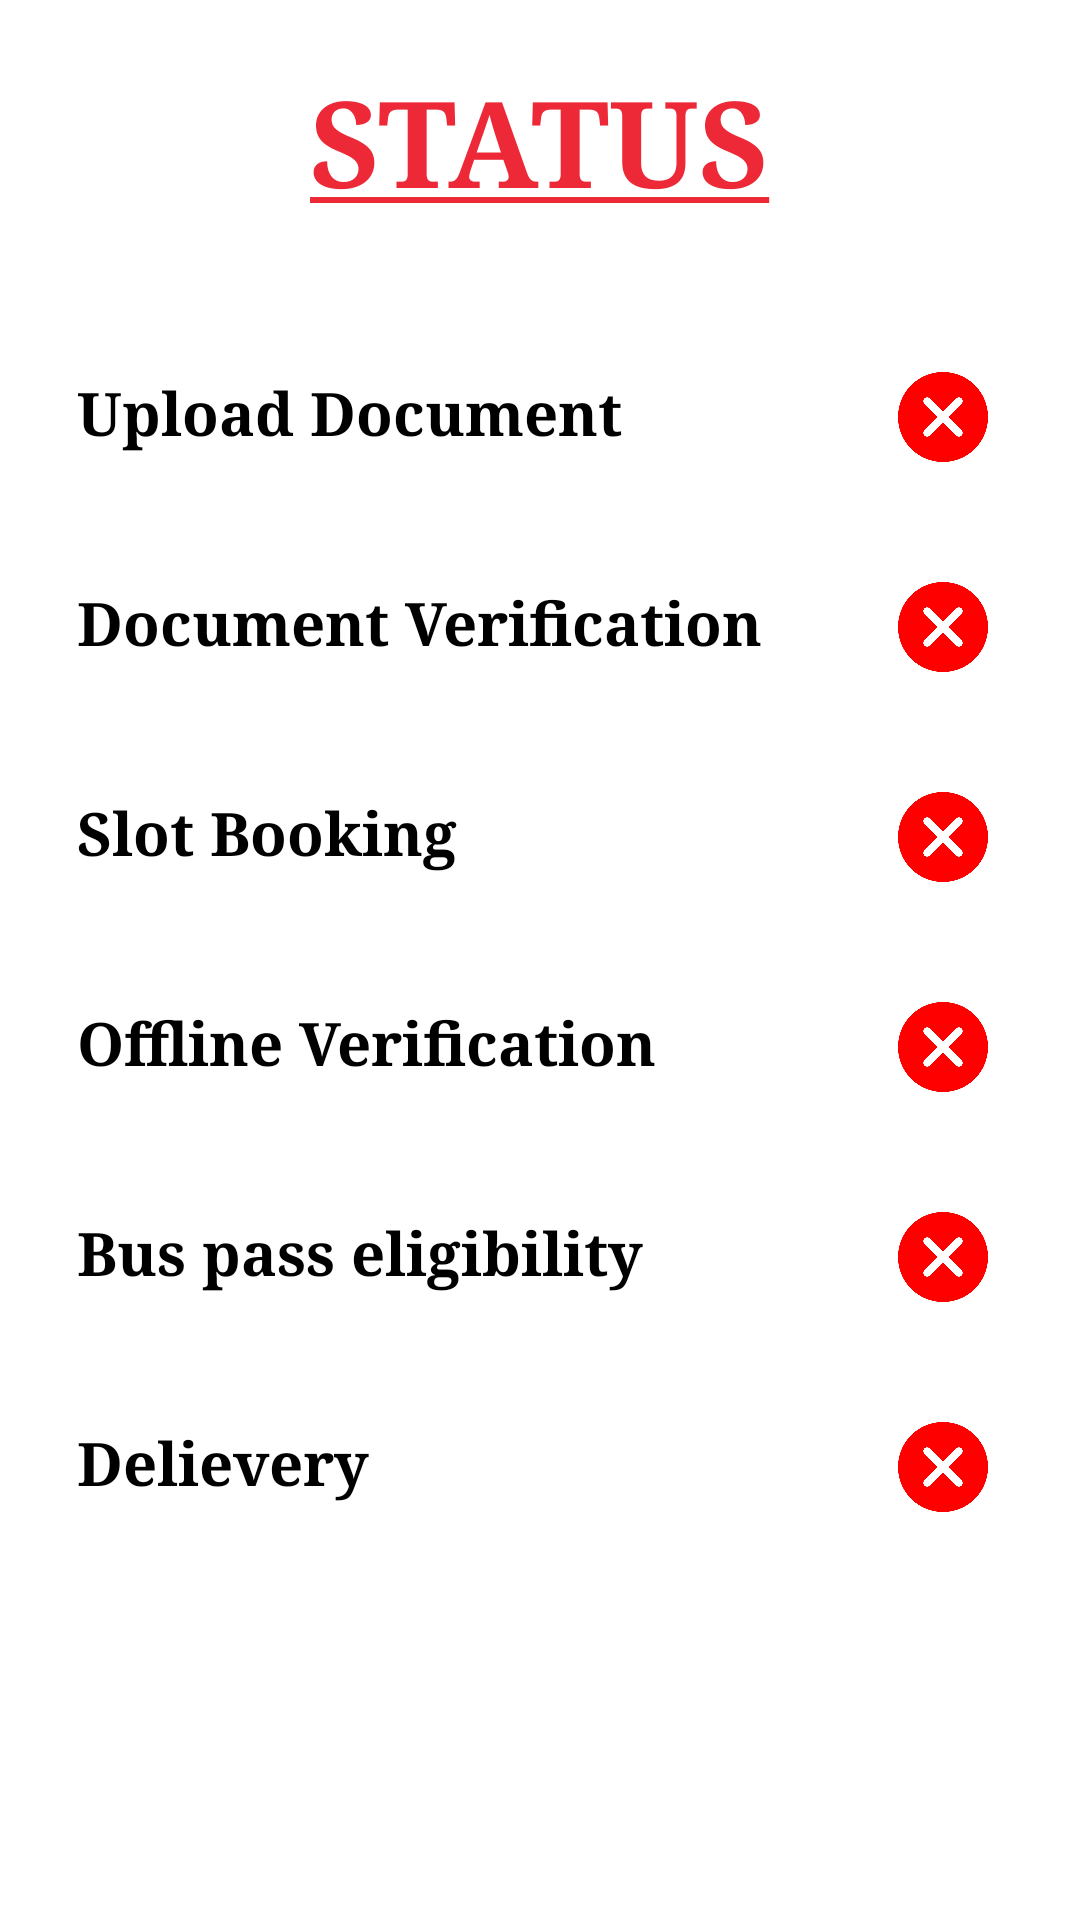

Icon bounding boxes for this 1080w x 1920h phone screenshot, format BBox(x1, y1, x2, y2):
cancel: BBox(898, 372, 988, 462), BBox(898, 582, 988, 672), BBox(898, 792, 988, 882), BBox(898, 1002, 988, 1092), BBox(898, 1212, 988, 1302), BBox(898, 1422, 988, 1512)
